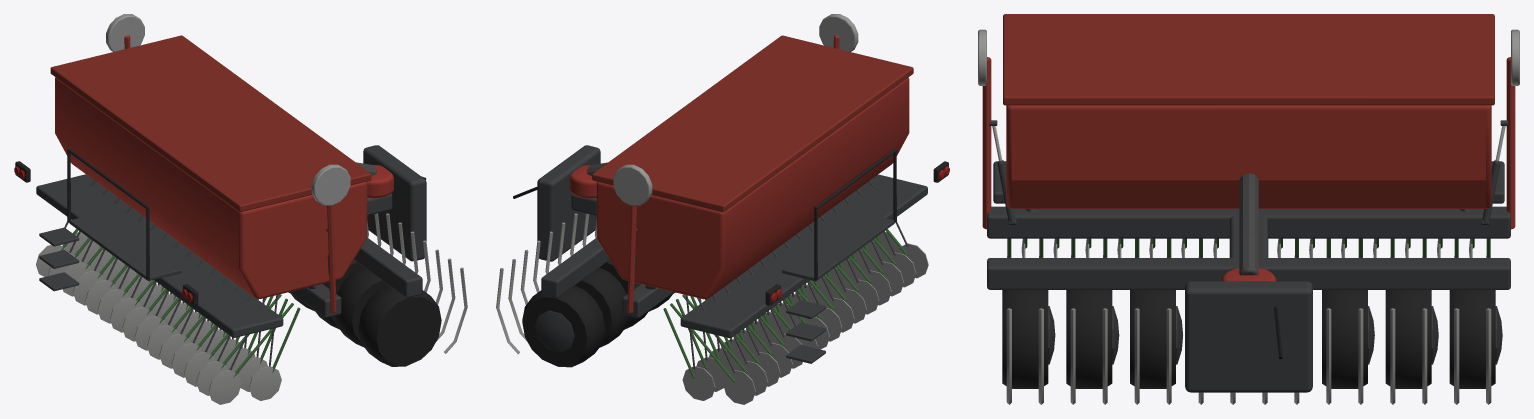
File: SM_Prop_farm_drill_0.glb
3 renders of one model, left to right at view 1: azimuth 30°, elevation 25°; view 2: azimuth 150°, elevation 25°; view 3: azimuth 270°, elevation 25°, orthographic. The views are drawn at different scales.
Parts seen in each view (by area): view 1: SM_Prop_farm_drill_0; view 2: SM_Prop_farm_drill_0; view 3: SM_Prop_farm_drill_0.
Boxes of the visible parts, bbox=[...] form: SM_Prop_farm_drill_0: bbox=[14, 14, 467, 404]; SM_Prop_farm_drill_0: bbox=[496, 14, 949, 404]; SM_Prop_farm_drill_0: bbox=[978, 14, 1519, 404].
Bounding box in the file's own units: 4.01 × 2.57 × 4.24.
